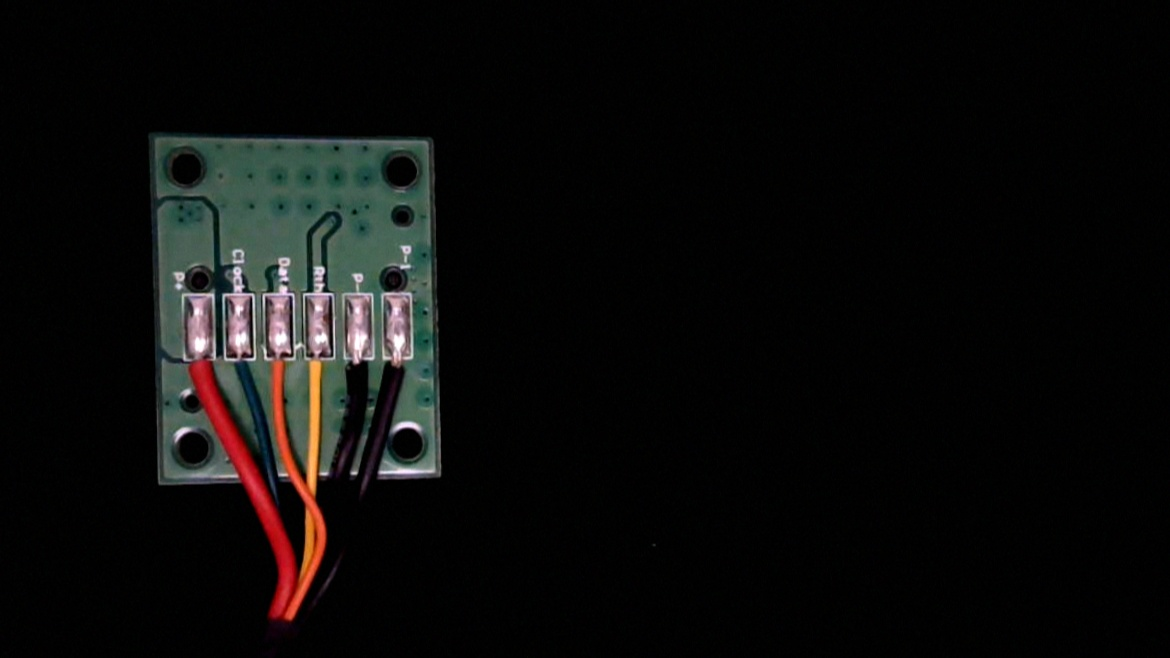Black: (343, 344, 372, 412)
Black1: (383, 344, 413, 406)
Green: (223, 344, 256, 408)
Orange: (263, 345, 295, 413)
Red: (183, 346, 219, 406)
Yellow: (301, 345, 335, 408)
